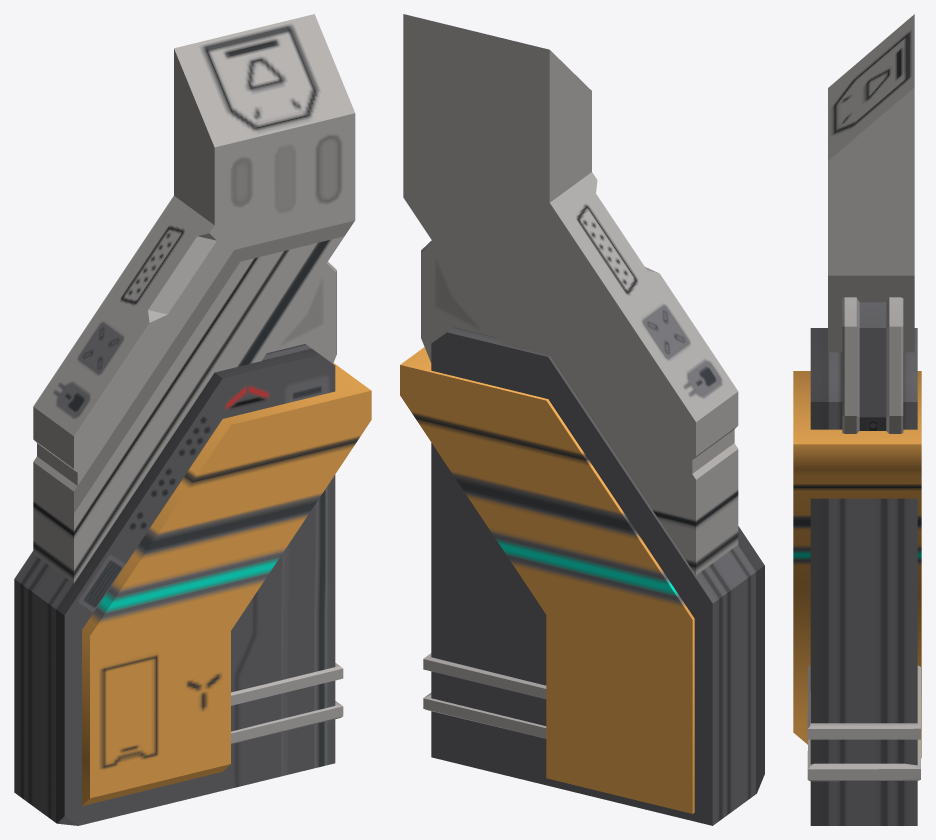
Rendered from SM_Prop_Greeble_Wall_01.fbx.
The picture shows the model from 3 angles, left to right: view 1: azimuth 30°, elevation 25°; view 2: azimuth 150°, elevation 25°; view 3: azimuth 270°, elevation 25°; orthographic projection. The views are drawn at different scales.
Visible parts, largest first — view 1: SM_Prop_Greeble_Wall_01; view 2: SM_Prop_Greeble_Wall_01; view 3: SM_Prop_Greeble_Wall_01.
Boxes of the visible parts, <box> form: SM_Prop_Greeble_Wall_01: <box>14,14,371,825</box>; SM_Prop_Greeble_Wall_01: <box>400,14,764,825</box>; SM_Prop_Greeble_Wall_01: <box>793,14,921,825</box>.
Bounding box in the file's own units: 265 × 600 × 92.5.
